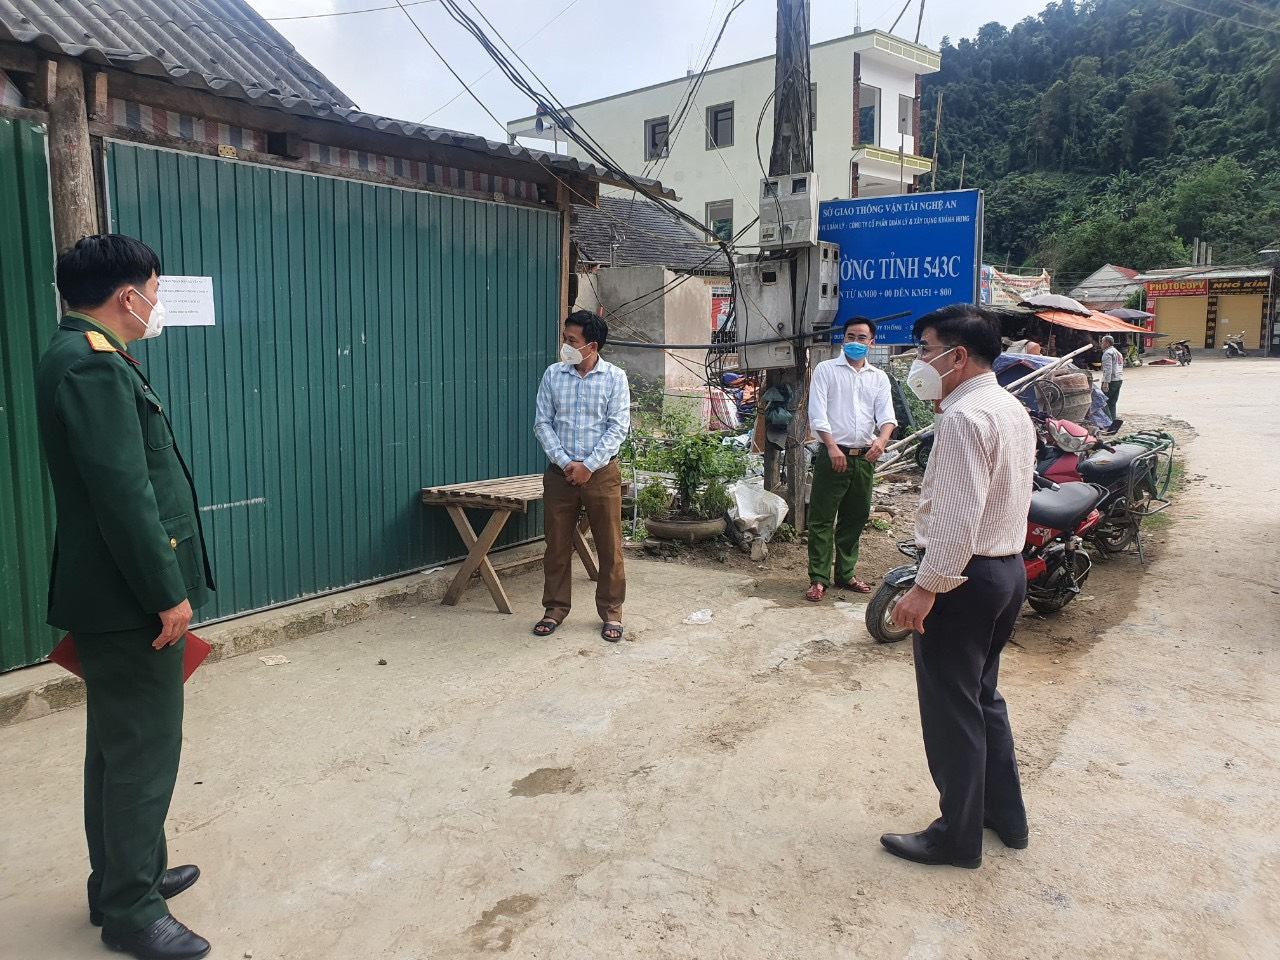person: (40, 235, 211, 955), (883, 304, 1040, 864), (531, 312, 628, 641), (807, 320, 895, 597)
